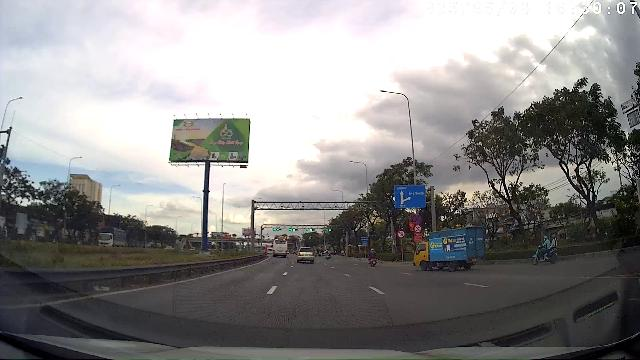130-cam-dung-va-do-xe: (412, 214, 422, 224)
